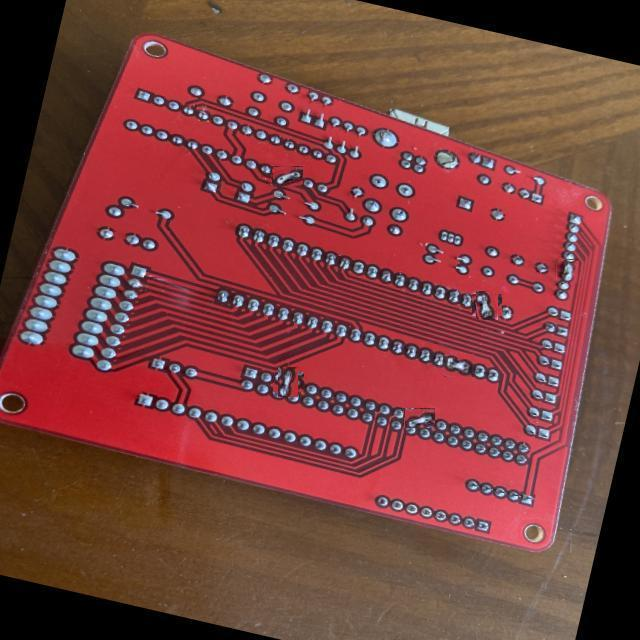damged: (444, 354, 474, 377), (474, 292, 500, 318), (276, 369, 301, 395), (404, 408, 436, 428), (272, 166, 303, 186), (556, 259, 578, 283)
